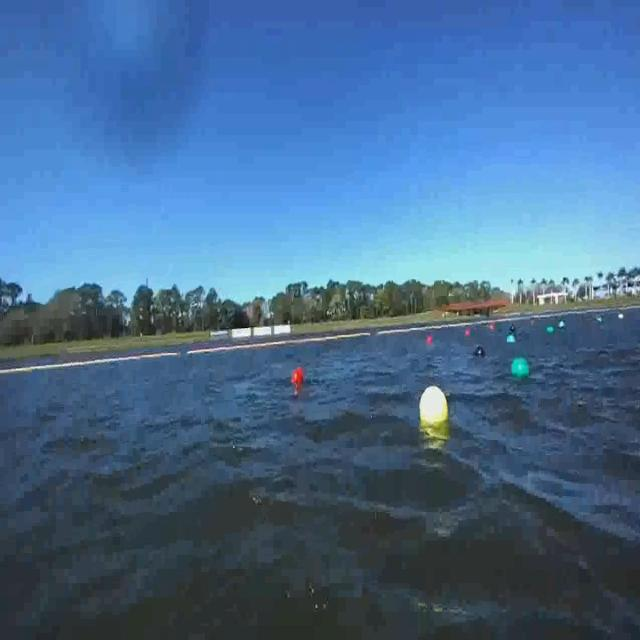black-buoy: (475, 346, 487, 358)
green-buoy: (510, 357, 528, 379)
red-buoy: (292, 366, 304, 384)
yellow-buoy: (420, 387, 450, 428)
